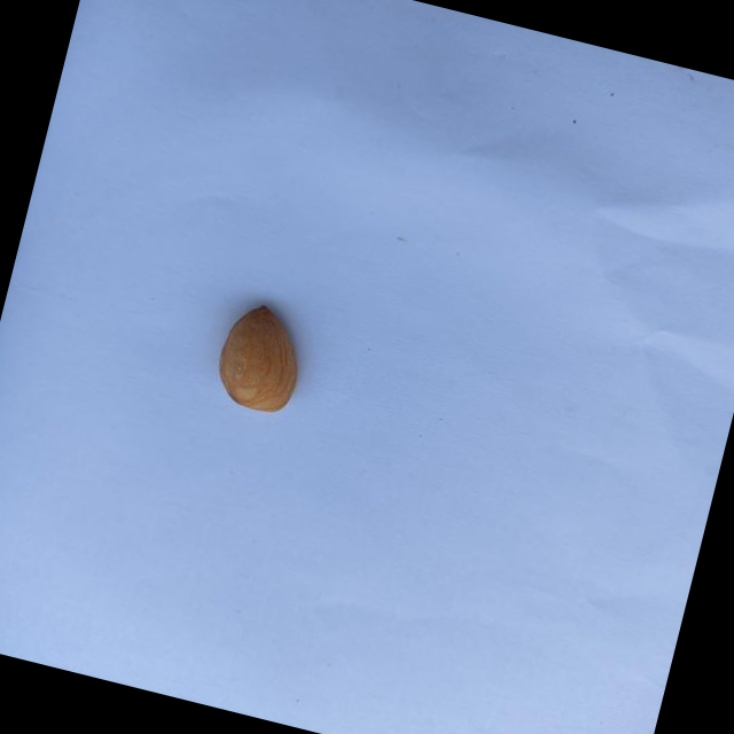grade2: (205, 294, 321, 423)
